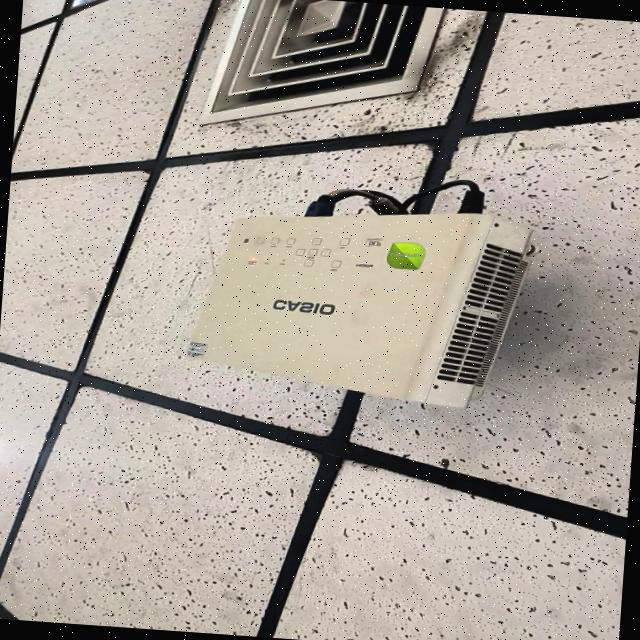Projector: (187, 181, 534, 408)
